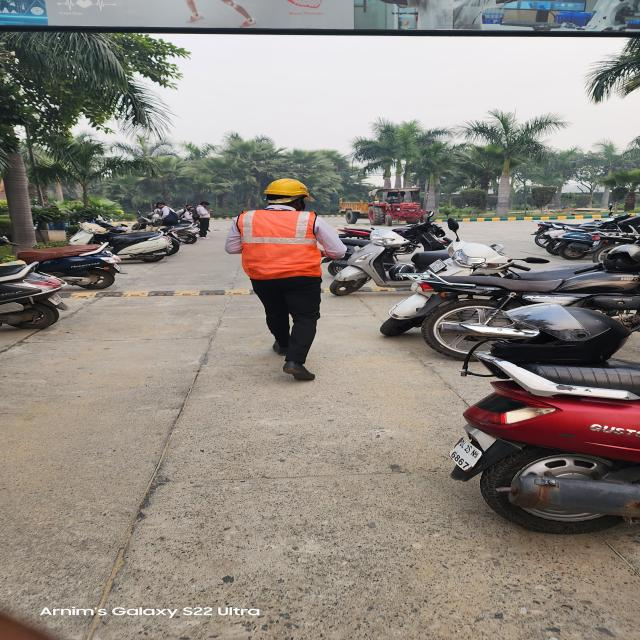safe: (227, 176, 347, 383)
unsafe: (194, 200, 216, 240)
